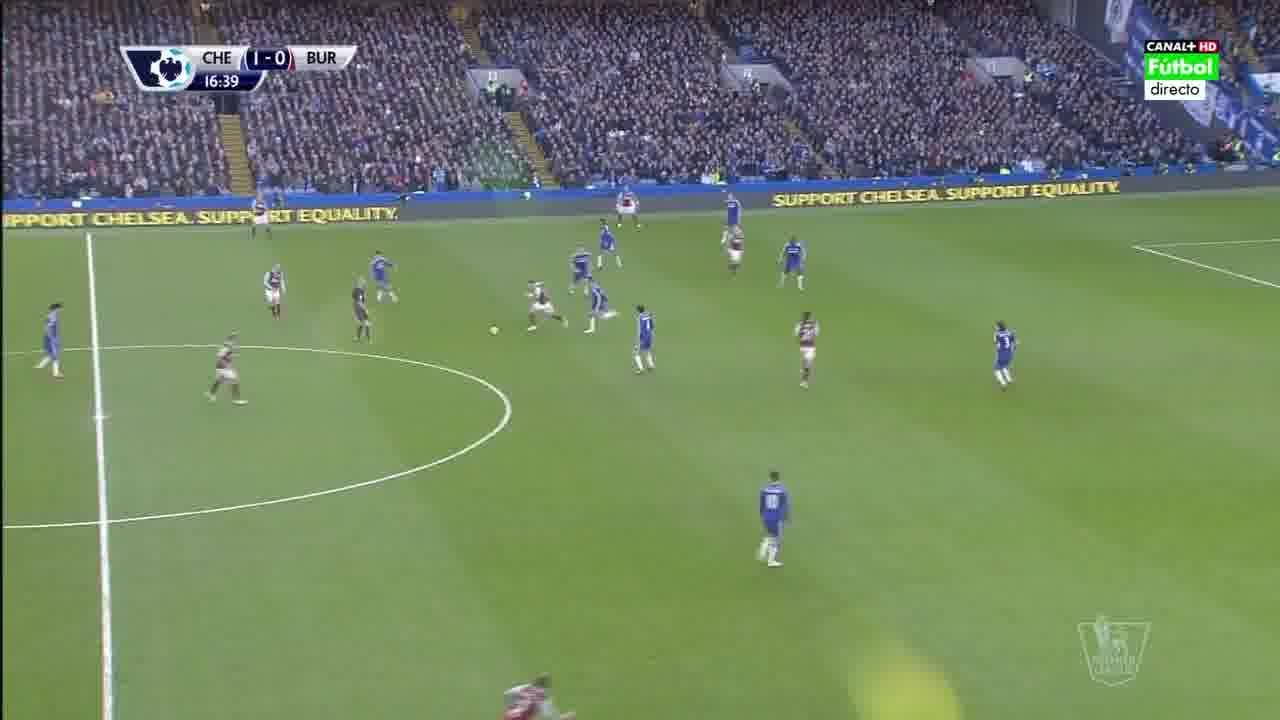football: (488, 325, 500, 336)
